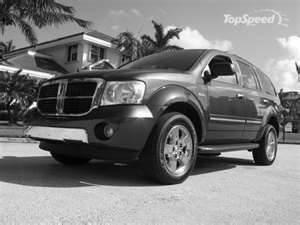car: (26, 49, 289, 186)
